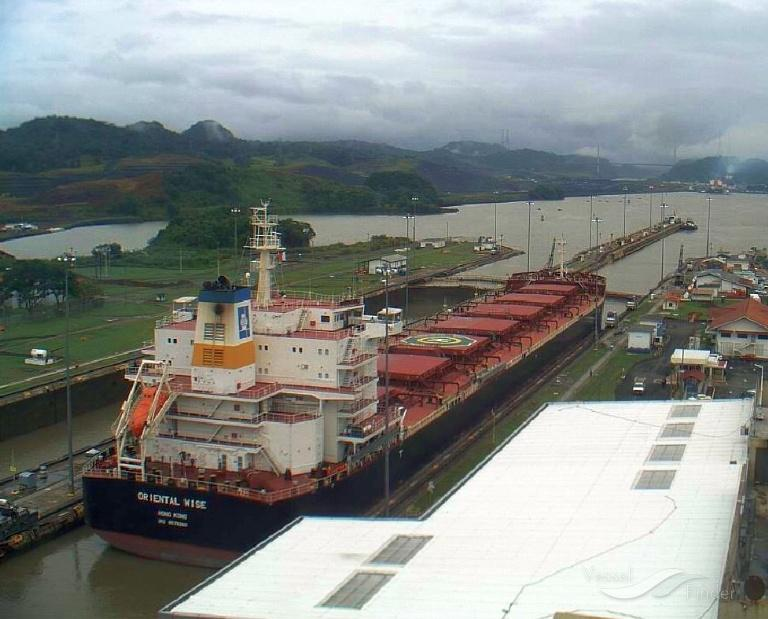OCR: (128, 485, 214, 532)
